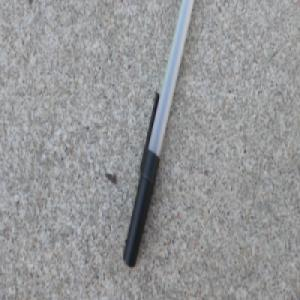Pen: (121, 0, 195, 269)
